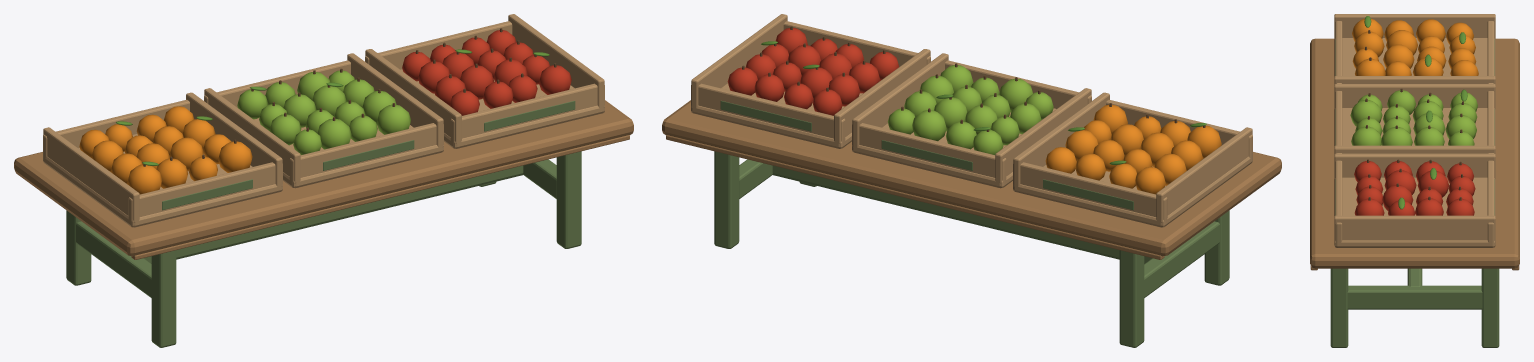
Rendered from rivora_orchard_large.glb.
3 renders of one model, left to right at view 1: azimuth 30°, elevation 25°; view 2: azimuth 150°, elevation 25°; view 3: azimuth 270°, elevation 25°, orthographic. The views are drawn at different scales.
Visible parts, largest first — view 1: rivora_orchard_large; view 2: rivora_orchard_large; view 3: rivora_orchard_large.
Part boxes in pixels (left/top/right/bottom): rivora_orchard_large: left=14, top=14, right=633, bottom=347; rivora_orchard_large: left=662, top=14, right=1281, bottom=347; rivora_orchard_large: left=1310, top=14, right=1519, bottom=347.
Bounding box in the file's own units: 2.08 × 0.6706 × 0.84.
